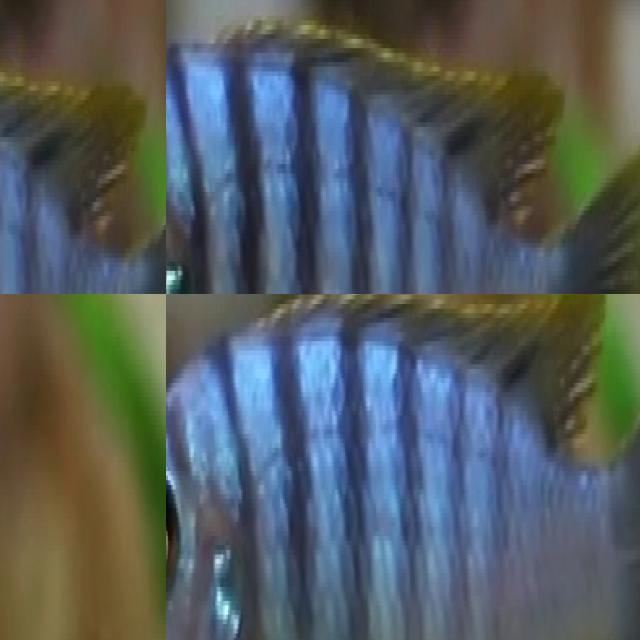fish: (166, 294, 640, 640), (166, 0, 640, 294), (0, 0, 166, 294)
